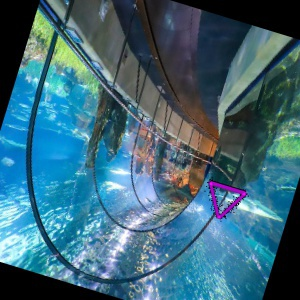triangle: (207, 178, 250, 219)
